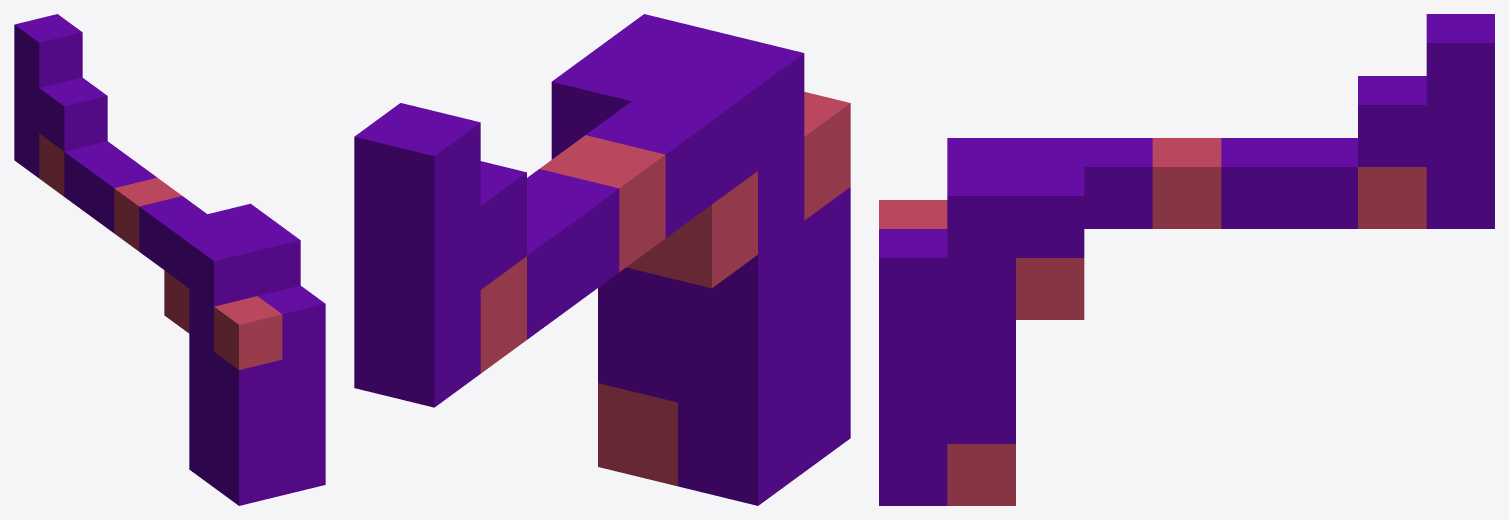
Rendered from Octo guy arm 1.obj.
The picture shows the model from 3 angles, left to right: view 1: azimuth 30°, elevation 25°; view 2: azimuth 150°, elevation 25°; view 3: azimuth 270°, elevation 25°; orthographic projection. The views are drawn at different scales.
Size of the model in its own units: 2 by 7 by 9.
Materials: 1 (1 with a texture image).
